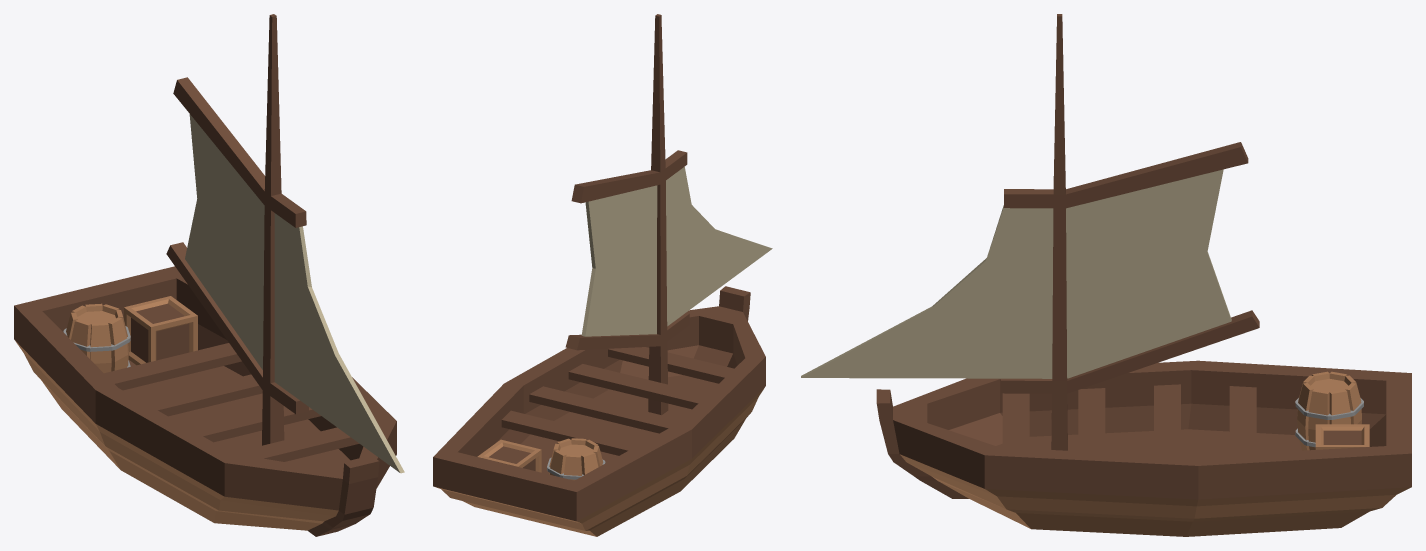
The model's file is cc0_boat.glb.
The picture shows the model from 3 angles, left to right: view 1: azimuth 30°, elevation 25°; view 2: azimuth 150°, elevation 25°; view 3: azimuth 270°, elevation 25°; orthographic projection. The views are drawn at different scales.
Parts seen in each view (by area): view 1: Boat, Sail; view 2: Boat, Sail; view 3: Boat, Sail.
Part boxes in pixels (left/top/right/bottom): Boat: left=14, top=266, right=396, bottom=536; Sail: left=166, top=14, right=404, bottom=473; Boat: left=433, top=286, right=765, bottom=536; Sail: left=565, top=14, right=772, bottom=415; Boat: left=876, top=360, right=1411, bottom=536; Sail: left=801, top=14, right=1259, bottom=450.
Bounding box in the file's own units: 2.77 × 5.88 × 6.8.
1 material, 1 textured.
